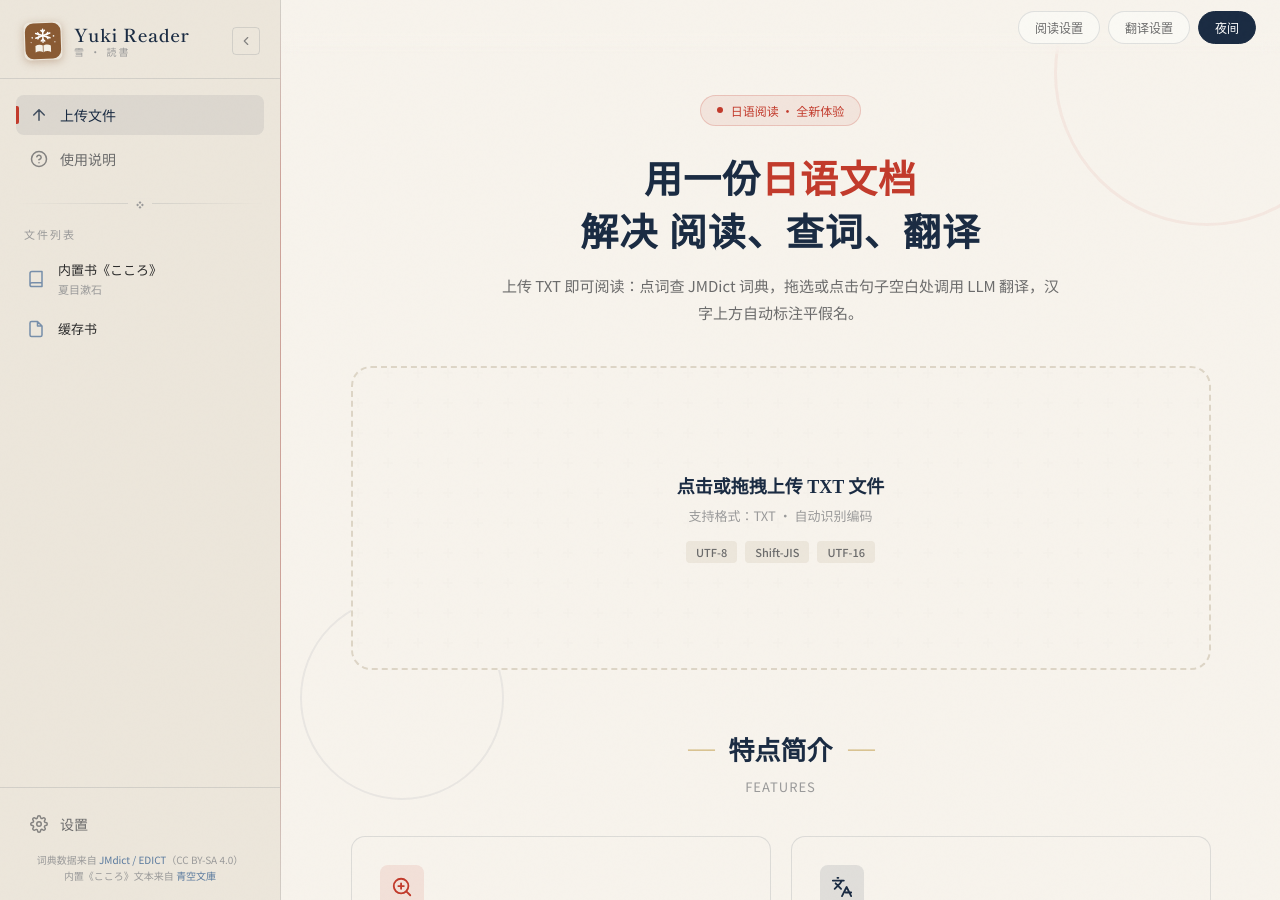
Test case: 翻译结果缓存 › cache miss requests the network and writes the result back
The width and height of the screenshot is (1280, 900).
Click the button "缓存书". click: (125, 328)
box: [12,309,238,348]
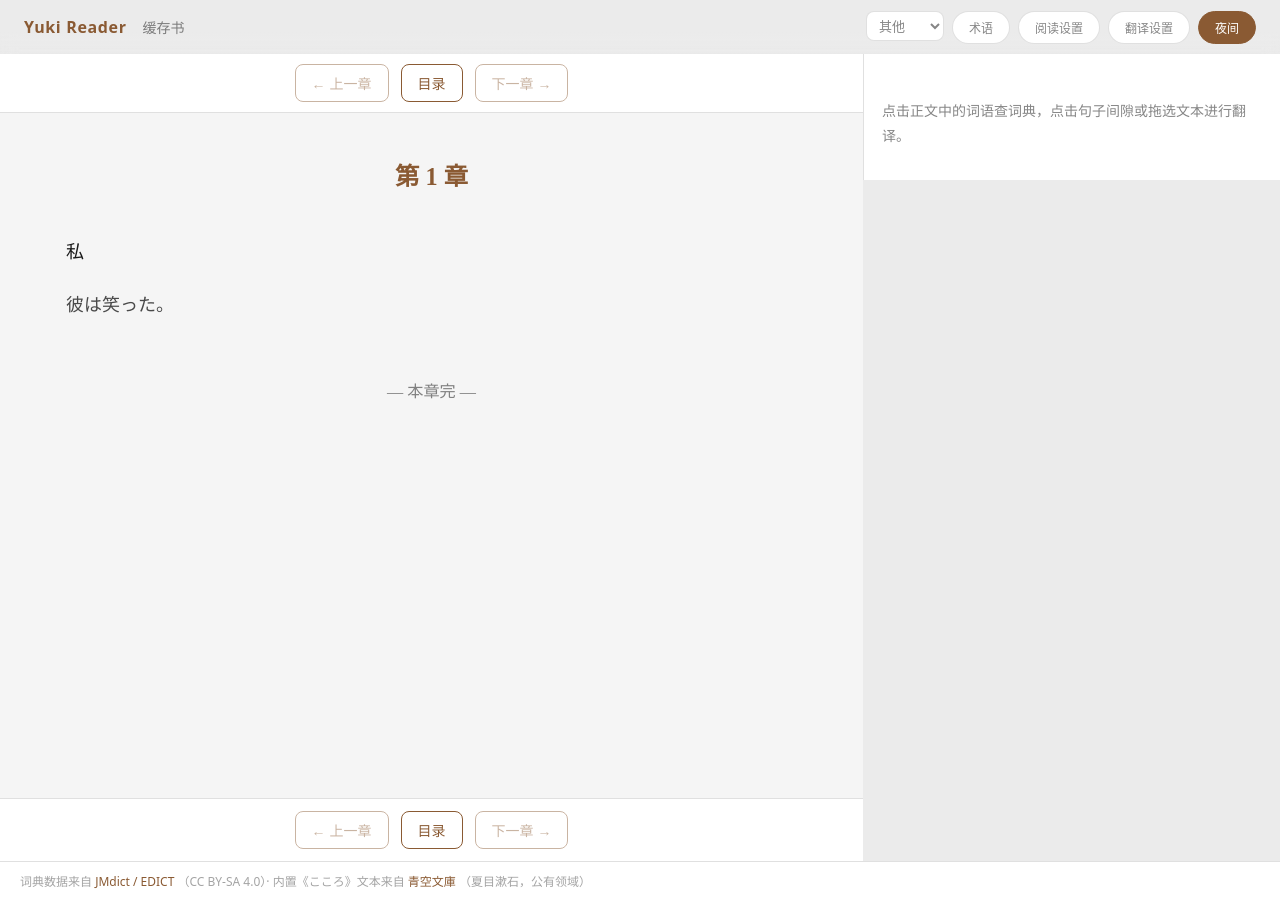
Click the element with test id "sentence" showing "私". click: (75, 252)
box: [66,242,84,262]
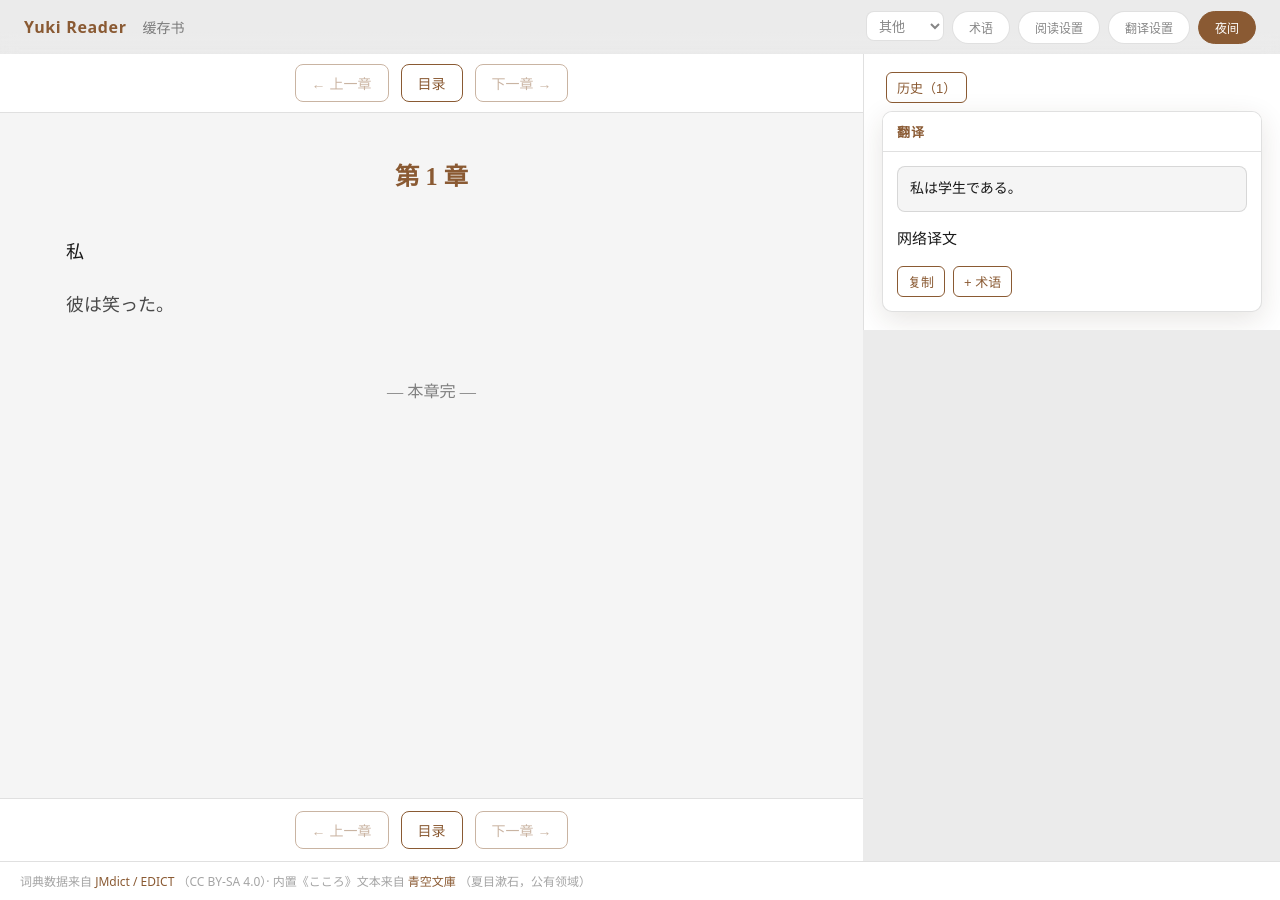
Now the text "网络译文" is shown, box [897,228,957,248]
